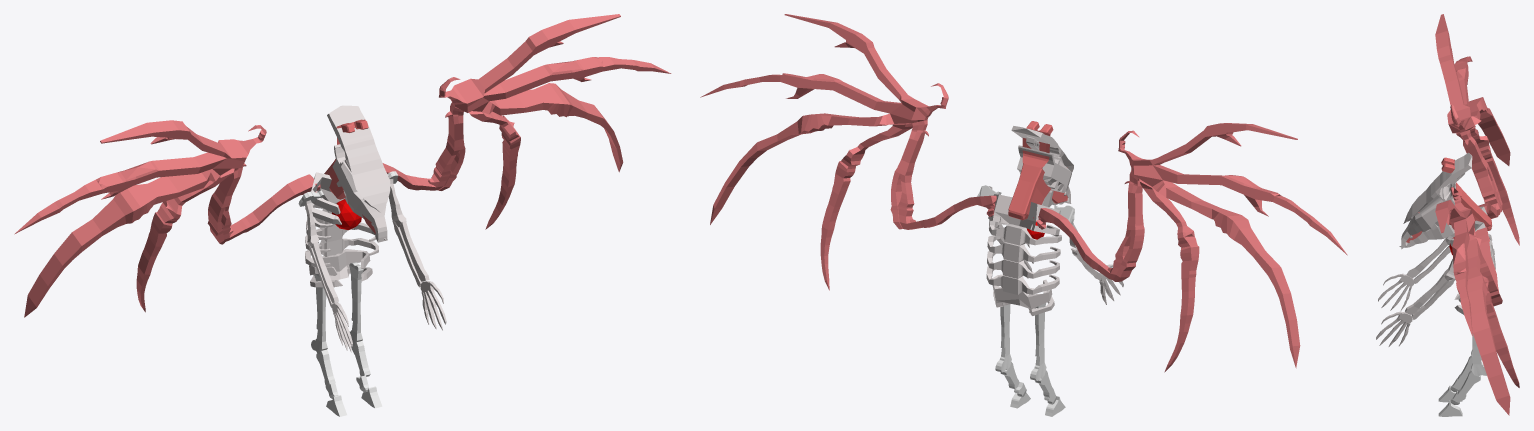
Rendered from Trojan-Horse-Boss.fbx.
3 views of the same model, side by side, from view 1: azimuth 30°, elevation 25°; view 2: azimuth 150°, elevation 25°; view 3: azimuth 270°, elevation 25° (orthographic). The views are drawn at different scales.
Visible parts, largest first — view 1: wing2, wing 1, head1, hand2, hand1, rib1.001, leg6, leg1, rib1, rib4, Headd; view 2: wing2, wing 1, Headd, head1, rib1, rib1.001, leg1, leg6, rib2, rib5, rib3, rib4 (+1 smaller); view 3: wing 1, wing2, head1, hand2, hand1, Headd, leg6, head2, leg4, leg1, rib1, leg3.
Boxes of the visible parts, x1,y1,x2,y2 form: wing2: (14,120,320,317); wing 1: (382,14,671,229); head1: (327,105,390,242); hand2: (388,173,446,330); hand1: (305,200,352,352); rib1.001: (309,249,372,287); leg6: (349,262,370,376); leg1: (311,274,335,386); rib1: (305,172,344,224); rib4: (305,238,378,266); Headd: (324,119,375,233); wing2: (1033,123,1347,372); wing 1: (700,14,996,290); Headd: (1008,121,1067,220); head1: (1011,126,1073,203); rib1: (988,194,1060,234); rib1.001: (992,274,1054,315); leg1: (1030,303,1053,397); leg6: (995,304,1019,389); rib2: (987,235,1060,262); rib5: (989,221,1061,245); rib3: (987,251,1059,278); rib4: (986,266,1059,294); wing 1: (1435,187,1519,415); wing2: (1435,14,1519,245); head1: (1401,152,1472,249); hand2: (1376,259,1455,346); hand1: (1378,233,1454,310); Headd: (1406,157,1491,242); leg6: (1457,333,1486,398); head2: (1399,223,1453,247); leg4: (1438,400,1462,416); leg1: (1457,350,1481,383); rib1: (1450,206,1492,246); leg3: (1438,385,1462,402).
Bounding box in the file's own units: 224 × 110 × 49.35.
